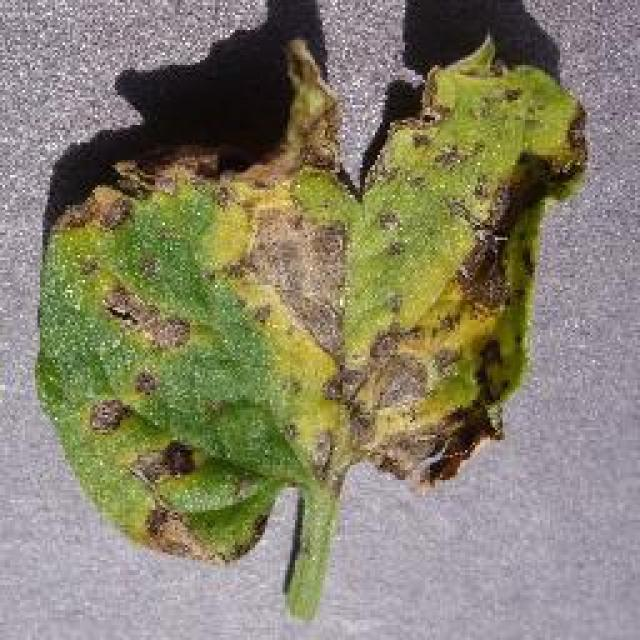Tomato Septoria spot leaf: (37, 33, 585, 565)
